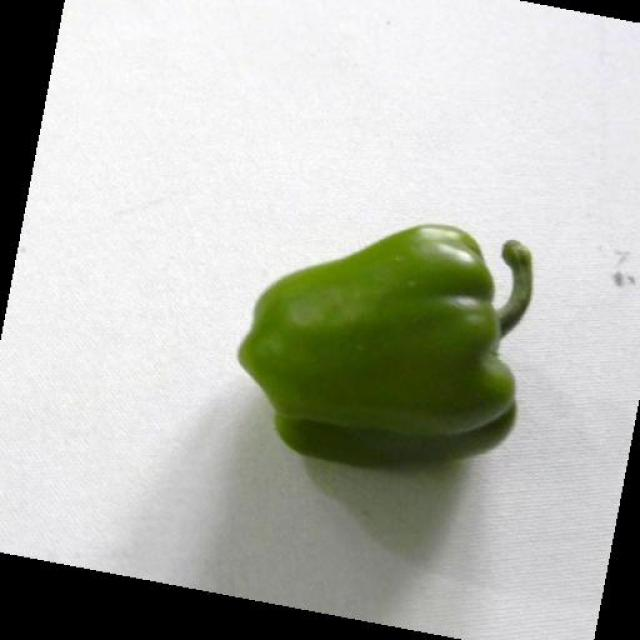Fresh_Capsicum: (218, 178, 603, 475)
